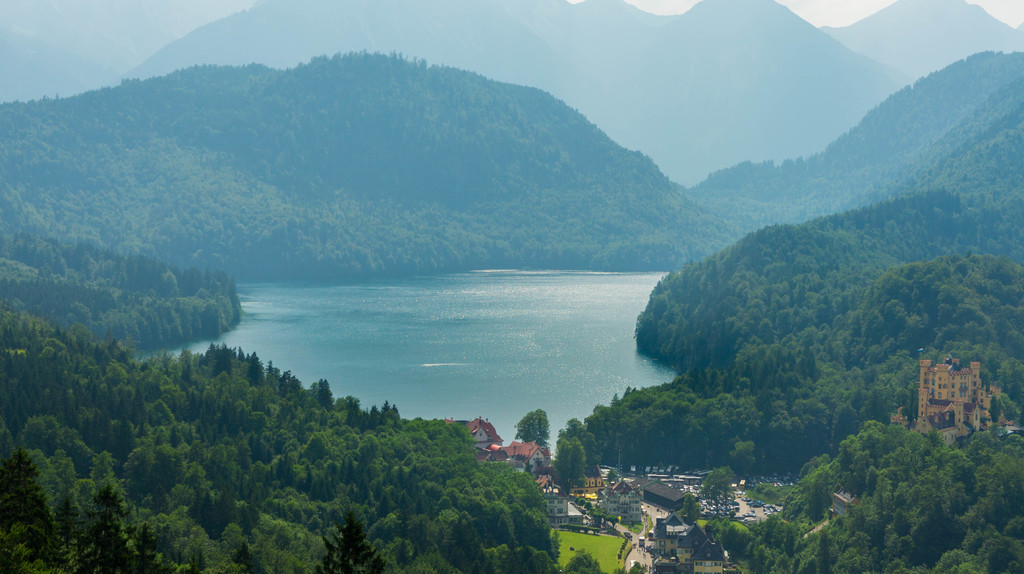Tree: (705, 416, 1023, 573), (65, 486, 176, 573), (0, 451, 53, 573), (315, 520, 386, 571), (557, 438, 583, 490), (516, 405, 546, 442), (684, 486, 700, 526)
